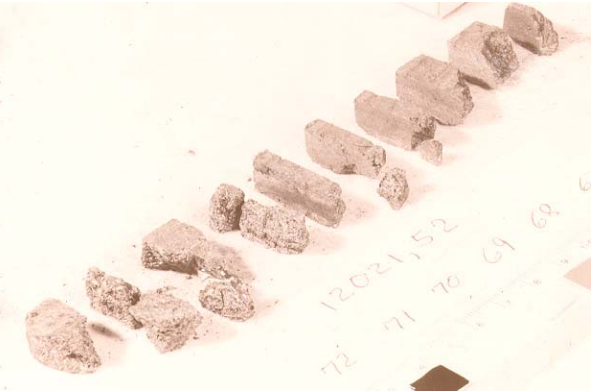Basalt: (238, 115, 413, 241), (120, 216, 264, 356), (377, 54, 484, 161), (435, 9, 527, 90), (22, 292, 108, 375), (496, 0, 566, 51)
